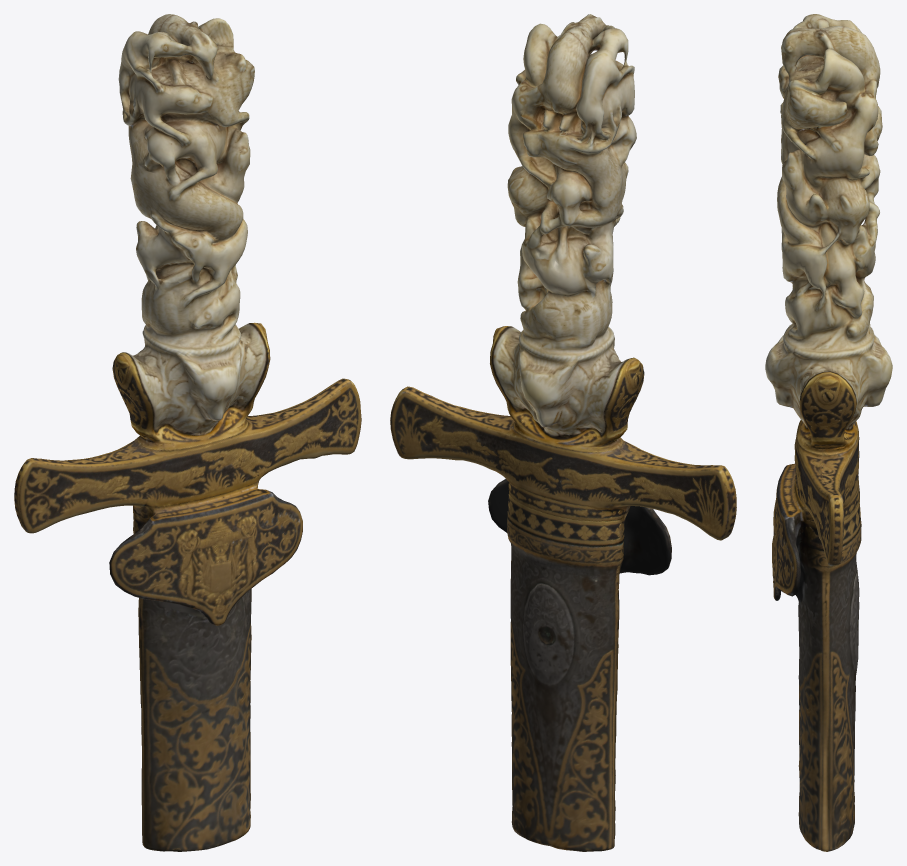
File: Sowrd_handel_937.gltf
3 renders of one model, left to right at view 1: azimuth 30°, elevation 25°; view 2: azimuth 150°, elevation 25°; view 3: azimuth 270°, elevation 25°, orthographic. The views are drawn at different scales.
Visible parts, largest first — view 1: W938_Low.001; view 2: W938_Low.001; view 3: W938_Low.001.
Boxes of the visible parts, x1,y1,x2,y2 form: W938_Low.001: (14, 14, 361, 851); W938_Low.001: (390, 14, 736, 851); W938_Low.001: (765, 14, 892, 851).
Bounding box in the file's own units: 0.1315 × 0.3 × 0.0436.
Materials: 1 (1 with a texture image).
